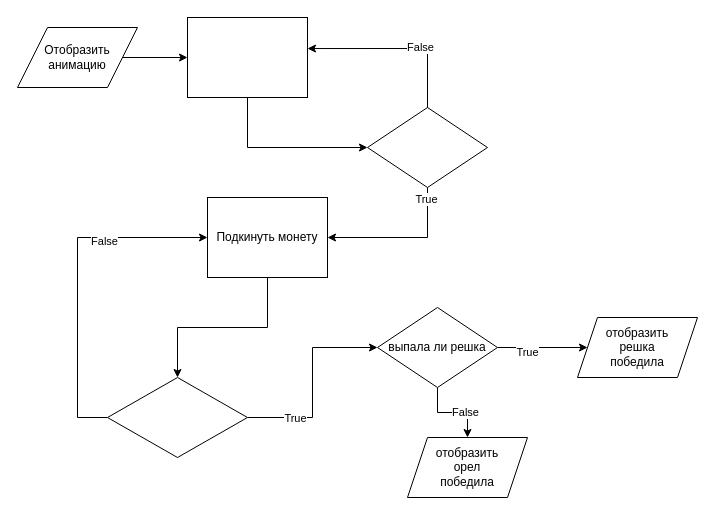
Some shapes in this 715 by 515 pixel diagram are drawn without their labels. Each missing label, with the centre of its shape:
"нажата ли кнопка" goes at (x=427, y=147).
"нажать на кнопку" goes at (x=247, y=57).
"подкинута ли монета" goes at (x=177, y=417).
